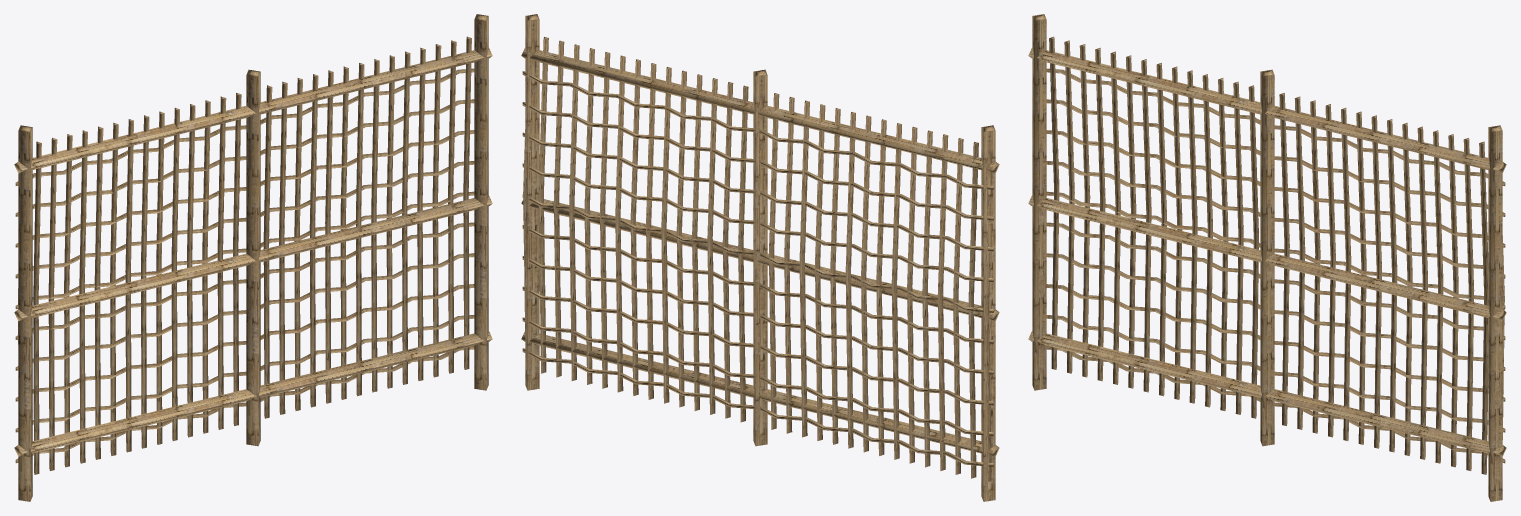
The model's file is prop_fence_lod1.glb.
3 views of the same model, side by side, from view 1: azimuth 30°, elevation 25°; view 2: azimuth 150°, elevation 25°; view 3: azimuth 330°, elevation 25° (orthographic).
Visible parts, largest first — view 1: prop_fence; view 2: prop_fence; view 3: prop_fence.
Part boxes in pixels (x1,y1,x2,y2): prop_fence: (14, 14, 492, 501); prop_fence: (521, 14, 999, 501); prop_fence: (1028, 14, 1506, 501).
Bounding box in the file's own units: 2 × 1.5 × 0.09.
Materials: 1 (1 with a texture image).
